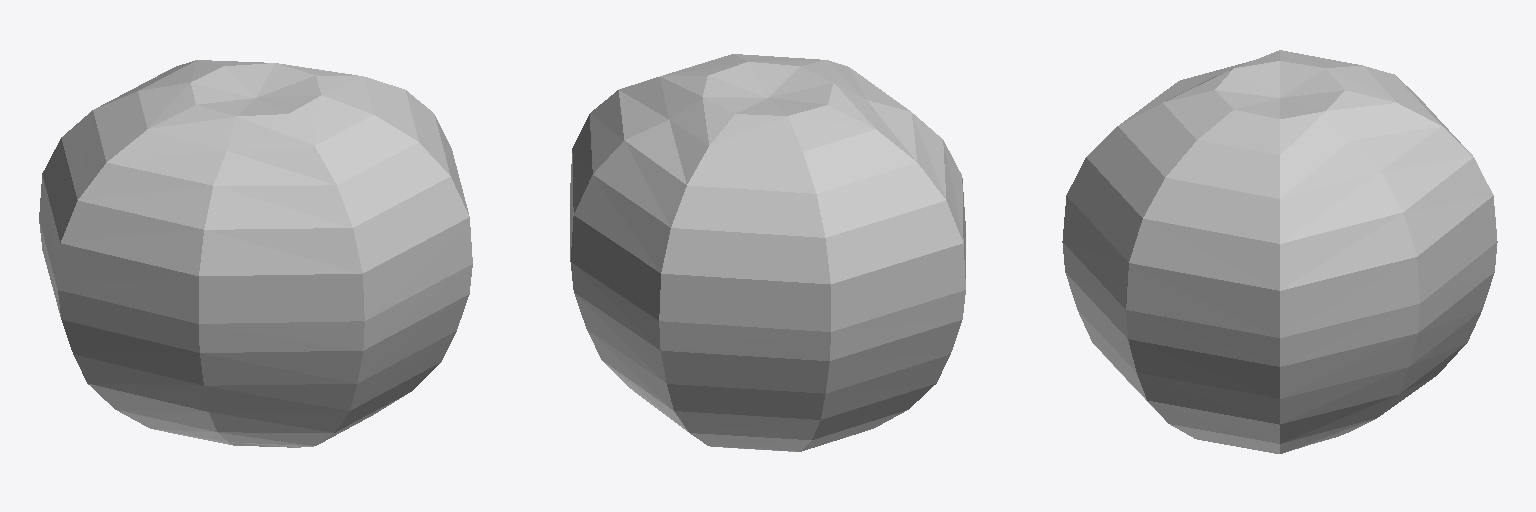
The model's file is Orange.obj.
3 views of the same model, side by side, from view 1: azimuth 30°, elevation 25°; view 2: azimuth 150°, elevation 25°; view 3: azimuth 270°, elevation 25° (orthographic).
Parts seen in each view (by area): view 1: Cube.004; view 2: Cube.004; view 3: Cube.004.
Part boxes in pixels (left/top/right/bottom): Cube.004: left=39, top=60, right=472, bottom=447; Cube.004: left=570, top=54, right=965, bottom=451; Cube.004: left=1062, top=50, right=1497, bottom=453.
Size of the model in its own units: 0.4404 by 0.355 by 0.419.